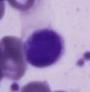L: (24, 25, 69, 70)
